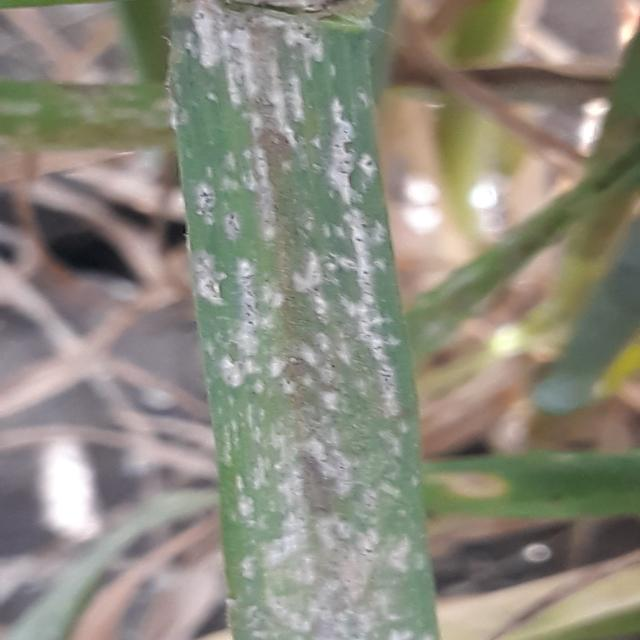powder_mildew: (122, 8, 486, 640)
